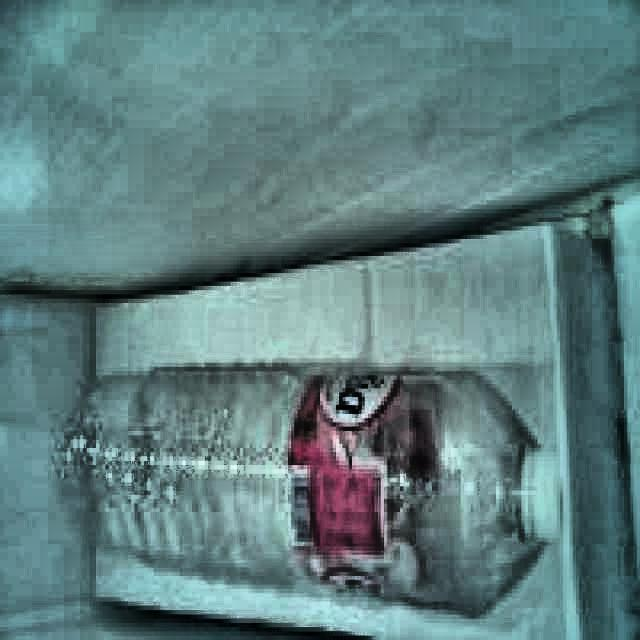plastic bottle: (53, 369, 559, 614)
